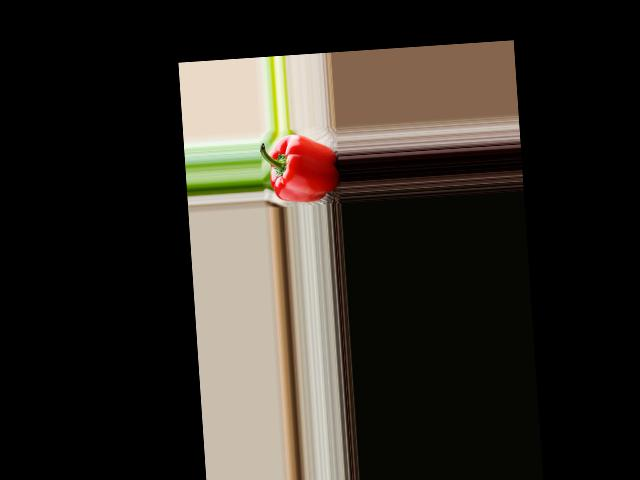bell_pepper: (261, 129, 341, 203)
